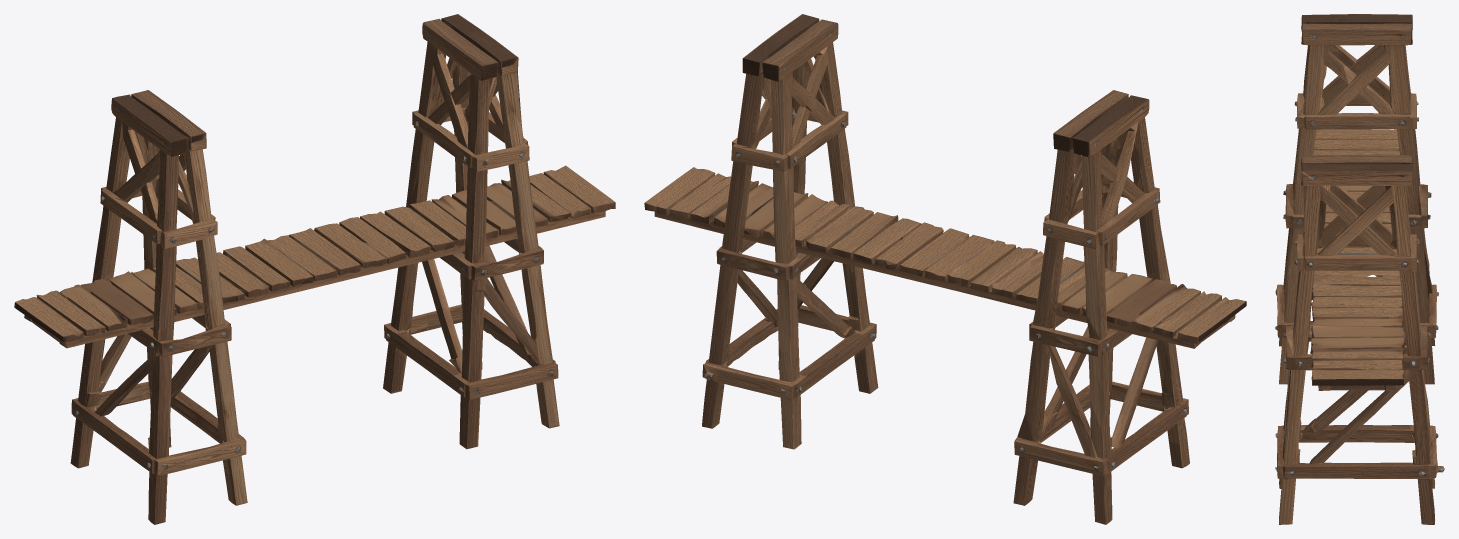
File: forest-trestle.glb
3 renders of one model, left to right at view 1: azimuth 30°, elevation 25°; view 2: azimuth 150°, elevation 25°; view 3: azimuth 270°, elevation 25°, orthographic. The views are drawn at different scales.
Size of the model in its own units: 1.9 by 1.21 by 0.5446.
Materials: 1 (1 with a texture image).
